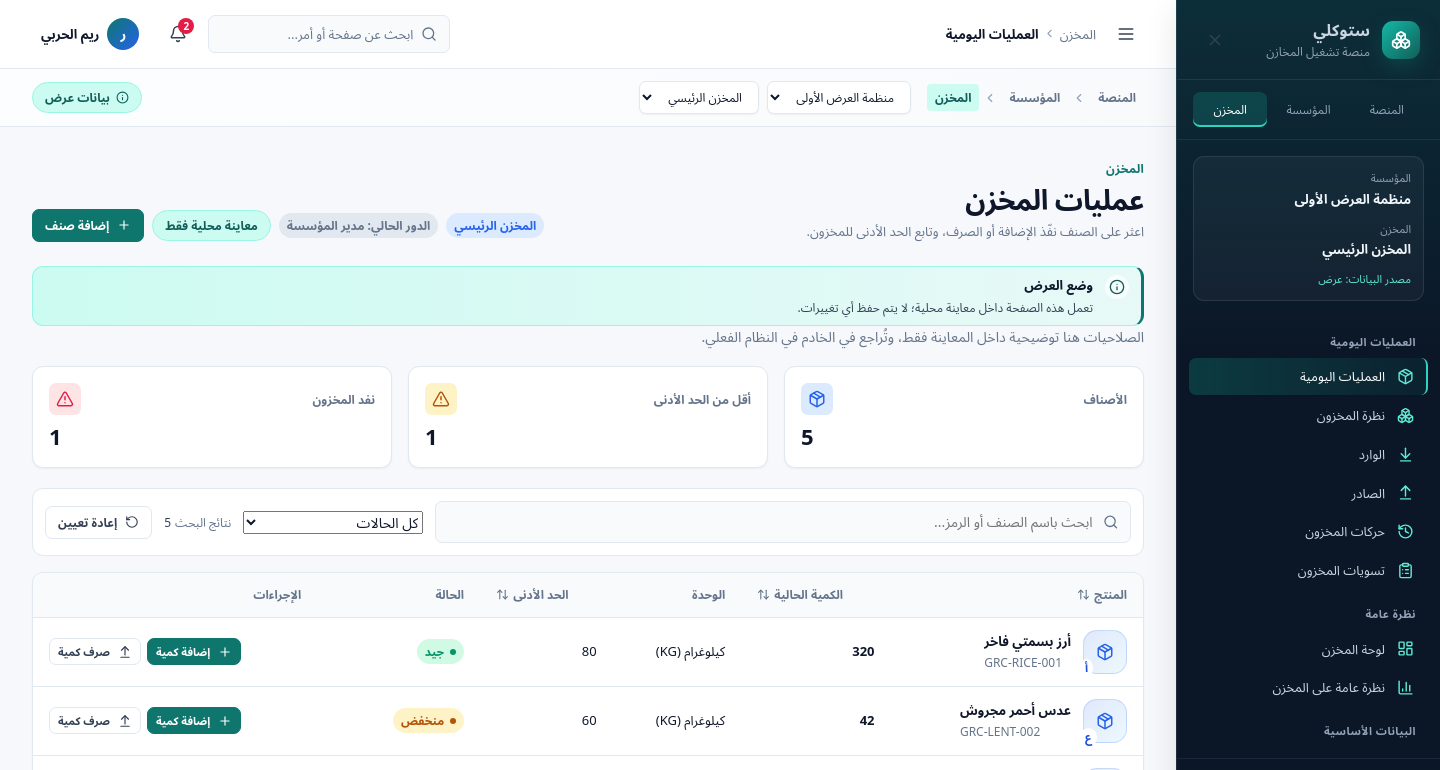
Scenario: warehouse operations and quick quantity › blocks issuing more than the available balance
Click the button "صرف كمية" in the row of "أرز بسمتي فاخر" at (95, 652), box [49,638,141,665]
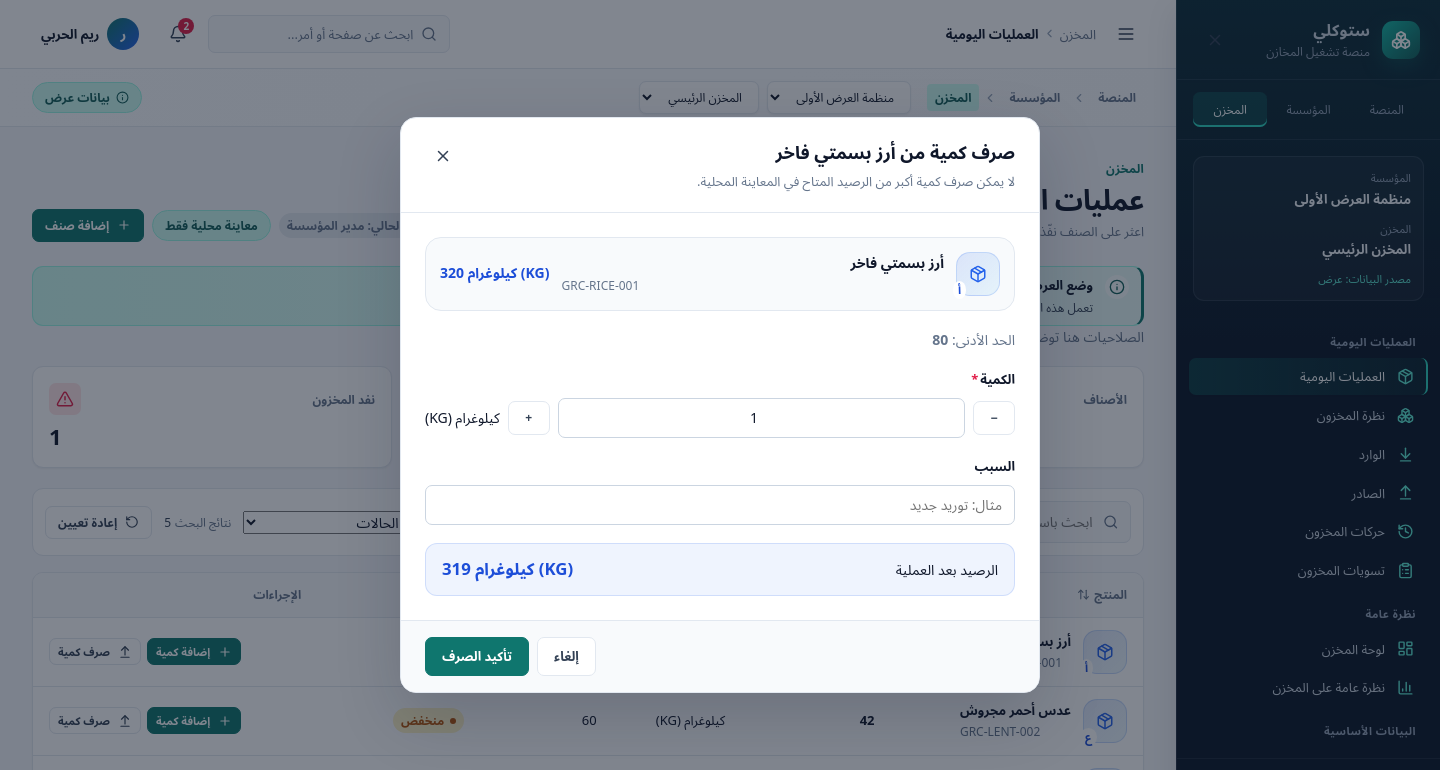
Replace the text in the number field labelled "الكمية*" with "9999" at (761, 418), box [558,398,965,438]
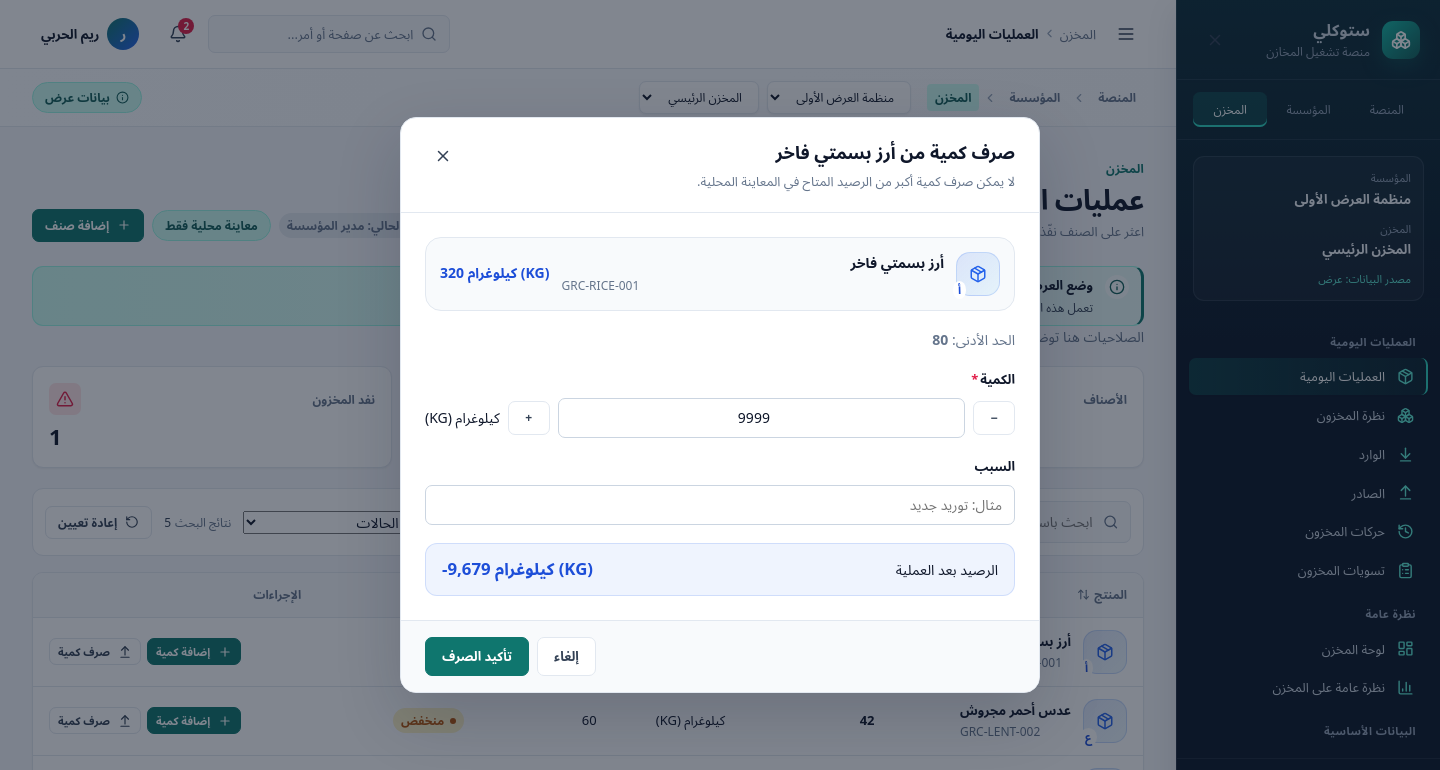
Click the button "تأكيد الصرف" at (477, 657), box [425,637,529,676]
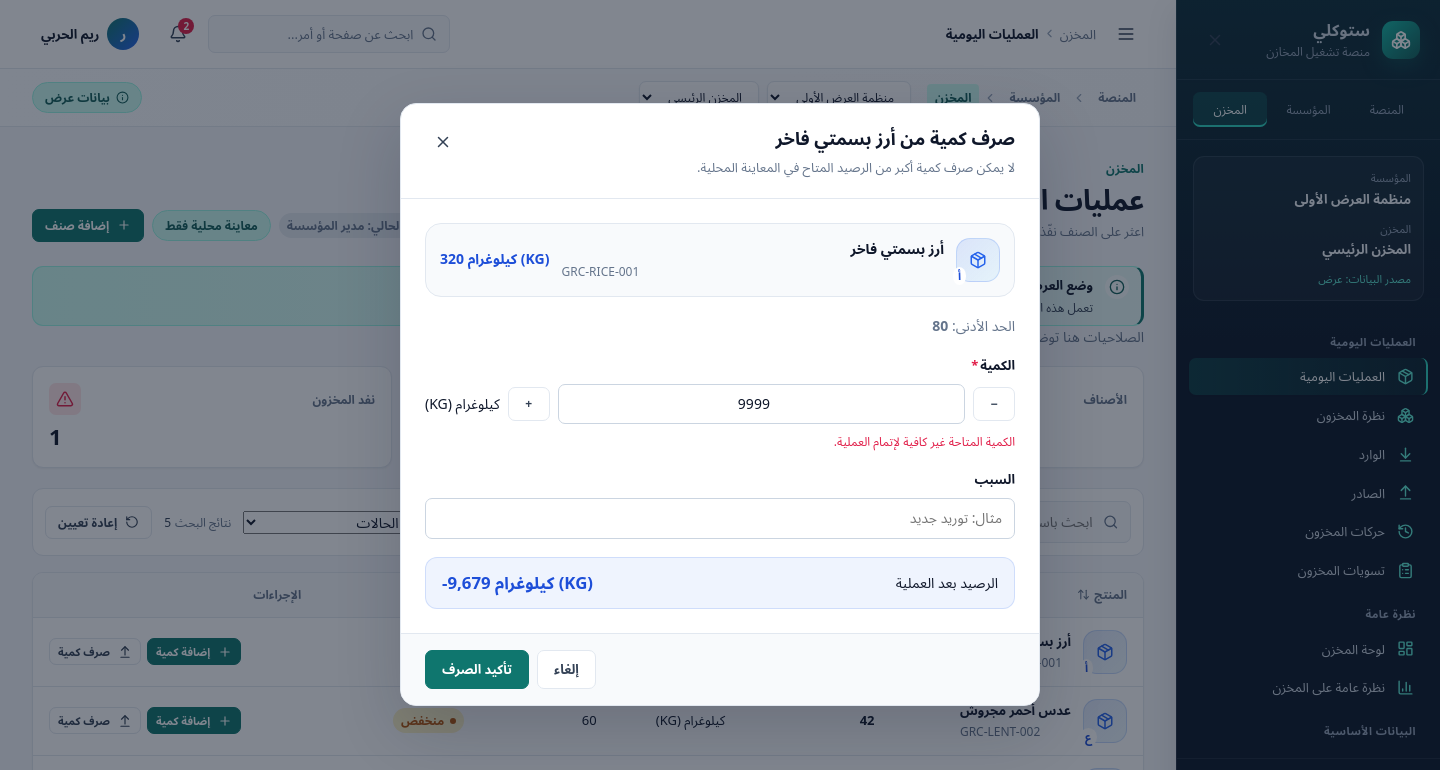
Now the dialog is shown, box [400,103,1040,707]
Now the text "الكمية المتاحة غير كافية لإتمام العملية." is shown, box [834,434,1015,451]
